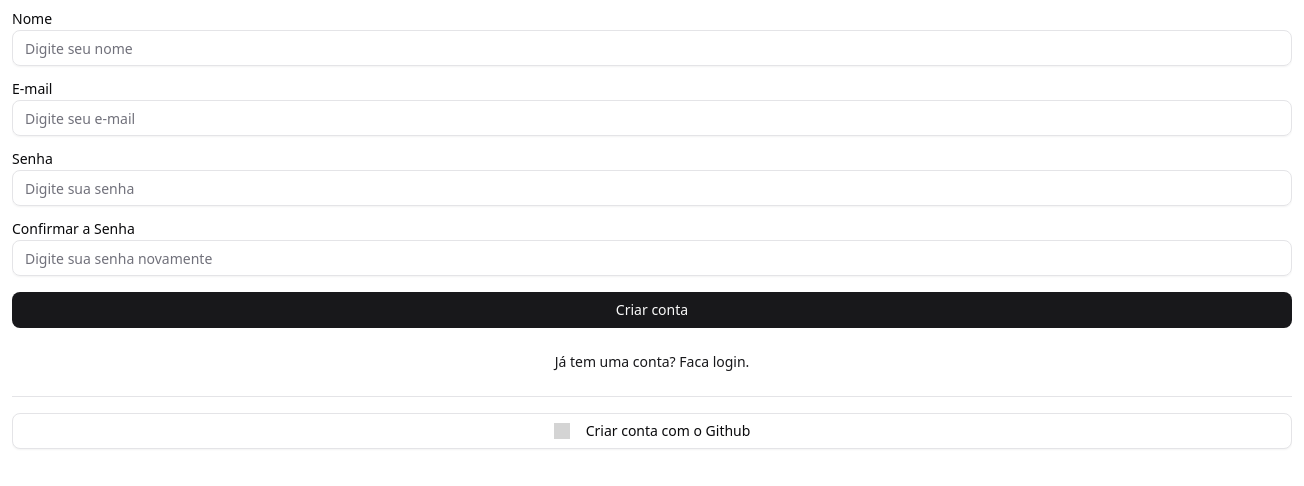
Test: <SignUpForm /> › should show password validation error
Type "123" into the password field labelled "Senha" at (652, 188), box x1=12 y1=170 x2=1292 y2=206
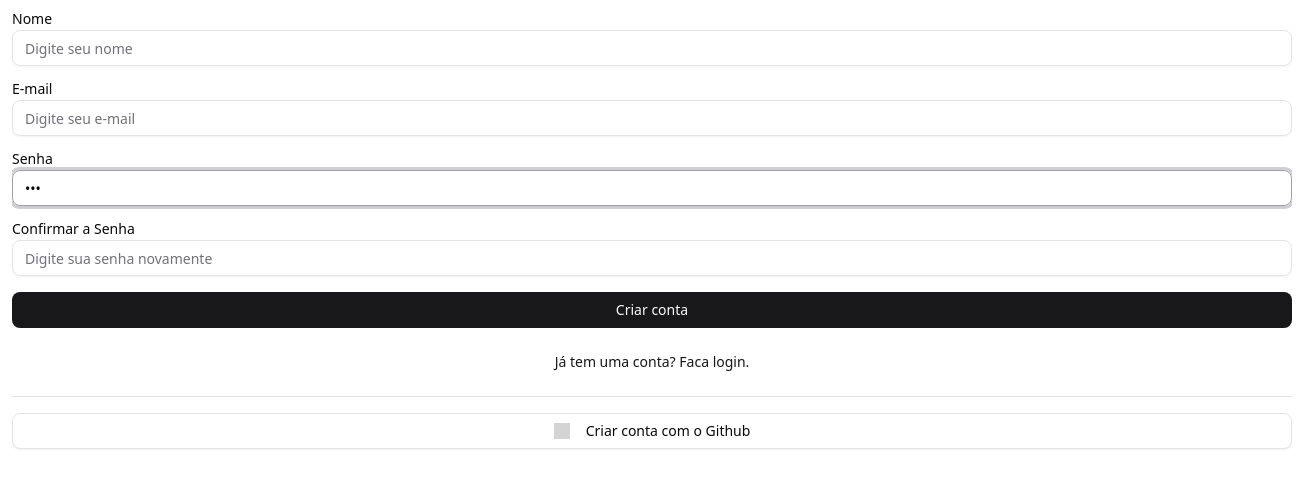
Click the button "Criar conta" at (652, 310), box x1=12 y1=292 x2=1292 y2=328
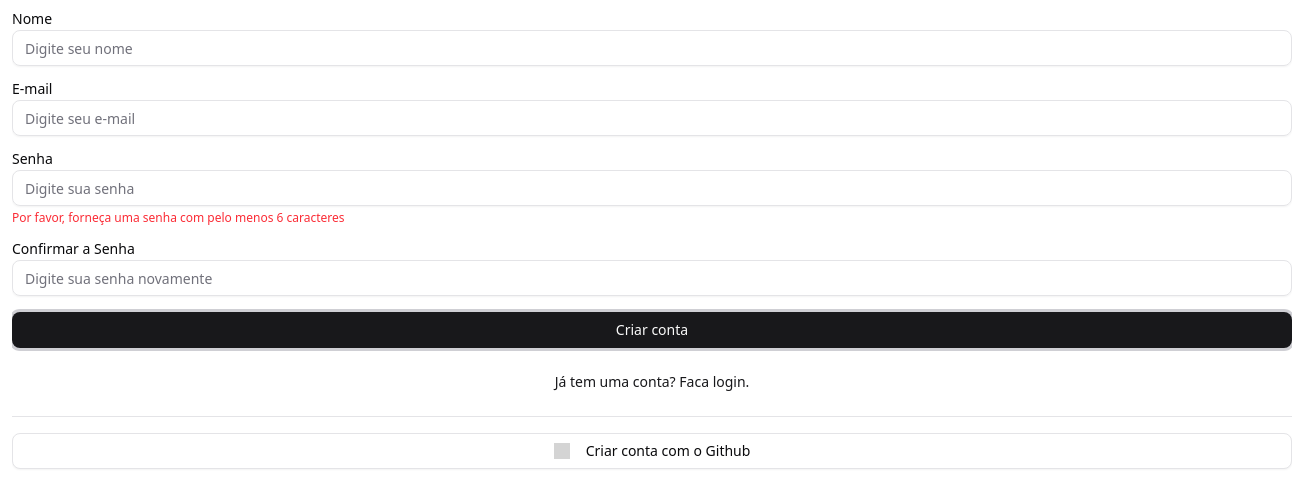
Expected: the text "Por favor, forneça uma senha com pelo menos 6 caracteres" is shown, x1=12 y1=209 x2=344 y2=226
